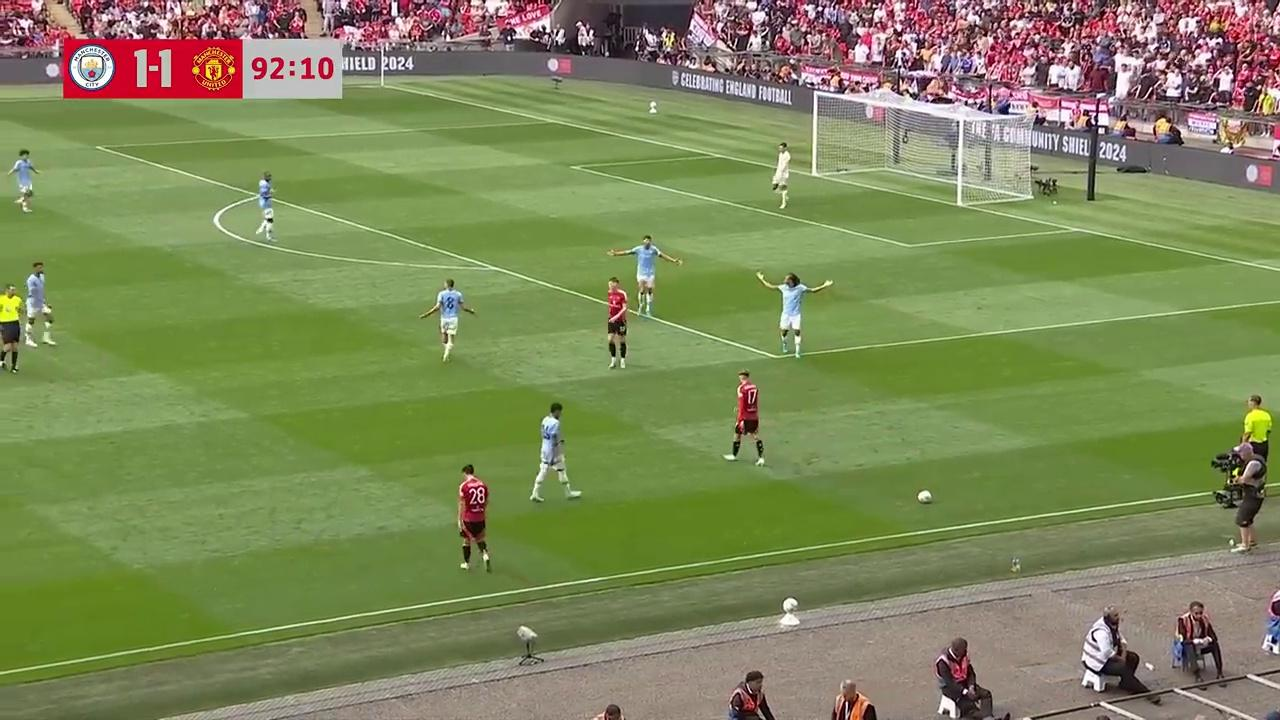ball: (916, 487, 932, 504)
player: (528, 402, 581, 504), (424, 278, 474, 359), (457, 464, 492, 573), (726, 369, 766, 464), (779, 272, 812, 359), (24, 260, 57, 345), (634, 232, 661, 318), (605, 277, 629, 369), (8, 149, 39, 213), (255, 172, 276, 243), (771, 143, 790, 208)
referee: (0, 282, 23, 373), (1242, 394, 1271, 445)
